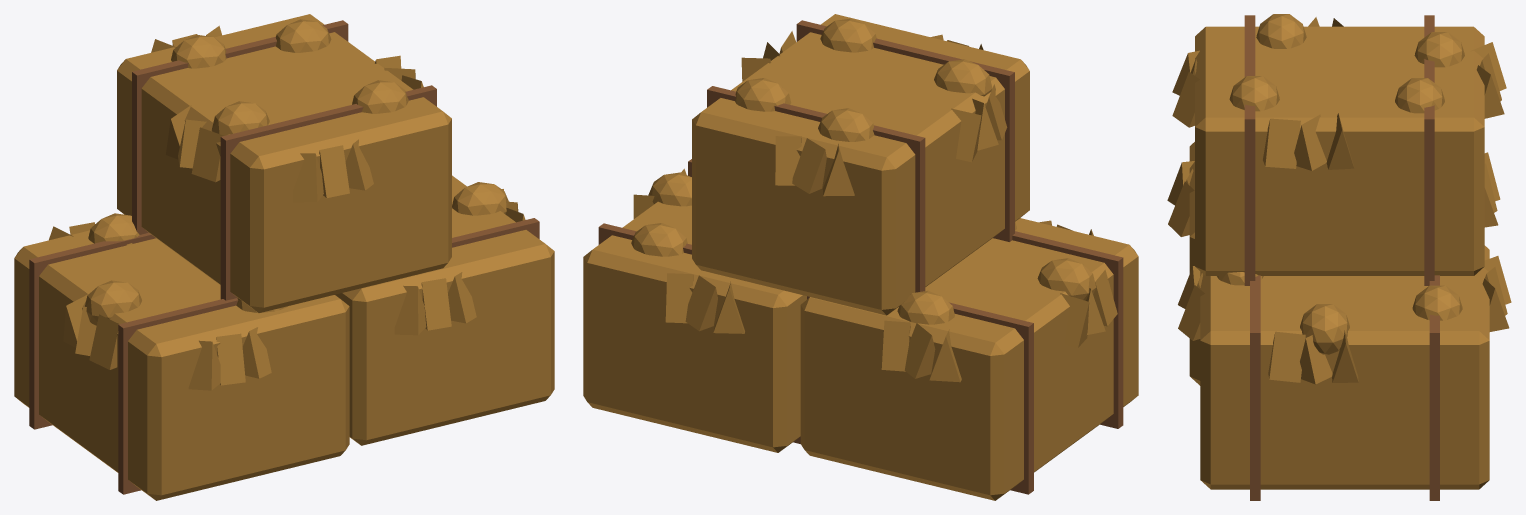
Rendered from prop_hay_bale_a.glb.
The picture shows the model from 3 angles, left to right: view 1: azimuth 30°, elevation 25°; view 2: azimuth 150°, elevation 25°; view 3: azimuth 270°, elevation 25°; orthographic projection.
Visible parts, largest first — view 1: prop_hay_bale_a_material_00, prop_hay_bale_a_material_01; view 2: prop_hay_bale_a_material_00, prop_hay_bale_a_material_01; view 3: prop_hay_bale_a_material_00, prop_hay_bale_a_material_01.
Boxes of the visible parts, left/top/right/bottom form: prop_hay_bale_a_material_00: left=14, top=14, right=554, bottom=500; prop_hay_bale_a_material_01: left=29, top=20, right=539, bottom=494; prop_hay_bale_a_material_00: left=583, top=14, right=1138, bottom=500; prop_hay_bale_a_material_01: left=598, top=20, right=1123, bottom=494; prop_hay_bale_a_material_00: left=1167, top=14, right=1511, bottom=489; prop_hay_bale_a_material_01: left=1244, top=15, right=1439, bottom=500.
Bounding box in the file's own units: 2 × 1.45 × 1.31.
